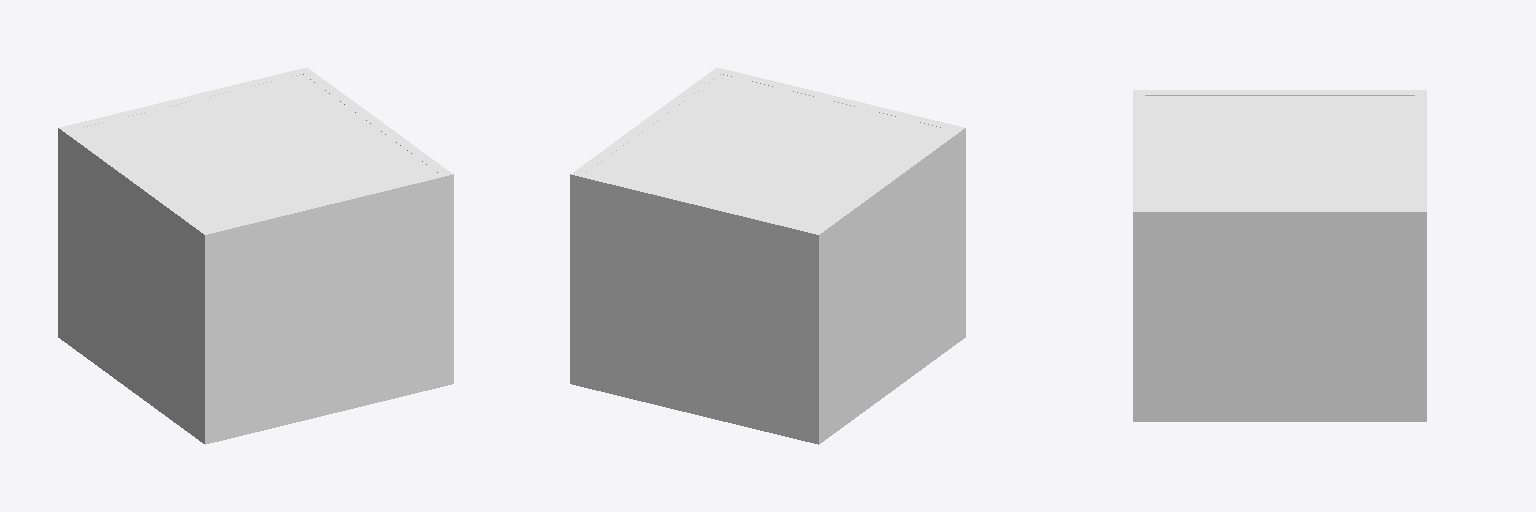
3 renders of one model, left to right at view 1: azimuth 30°, elevation 25°; view 2: azimuth 150°, elevation 25°; view 3: azimuth 270°, elevation 25°, orthographic.
Visible parts, largest first — view 1: wall_3_12, room_1_2, wall_2_6, wall_4_20, wall_2_8, wall_5_26, wall_3_14, wall_2_7, wall_4_19, wall_3_13, wall_5_23, wall_5_25 (+1 smaller); view 2: wall_5_24, room_1_2, wall_2_6, wall_4_20, wall_5_26, wall_3_14, wall_2_8, wall_2_7, wall_4_19, wall_5_25, wall_3_13, wall_5_23; view 3: wall_4_18, room_1_2, wall_4_20, wall_2_8, wall_5_26, wall_3_14, wall_5_25, wall_3_13, wall_4_19, wall_2_7.
Boxes of the visible parts, box(x1,y1,x2,y2) form: wall_3_12: box(205, 174, 453, 444); room_1_2: box(75, 74, 436, 227); wall_2_6: box(64, 132, 204, 443); wall_4_20: box(305, 68, 451, 173); wall_2_8: box(62, 129, 206, 234); wall_5_26: box(59, 67, 306, 129); wall_3_14: box(205, 174, 452, 234); wall_2_7: box(67, 128, 208, 230); wall_4_19: box(303, 71, 445, 173); wall_3_13: box(207, 173, 444, 231); wall_5_23: box(61, 74, 300, 340); wall_5_25: box(67, 71, 303, 129); wall_5_24: box(570, 174, 821, 444); room_1_2: box(587, 74, 948, 227); wall_2_6: box(825, 128, 965, 439); wall_4_20: box(572, 68, 718, 173); wall_5_26: box(571, 174, 820, 234); wall_3_14: box(717, 67, 963, 128); wall_2_8: box(819, 128, 964, 231); wall_2_7: box(813, 129, 956, 230); wall_4_19: box(578, 71, 720, 173); wall_5_25: box(579, 173, 822, 232); wall_3_13: box(720, 71, 956, 129); wall_5_23: box(822, 231, 824, 441); wall_4_18: box(1133, 212, 1426, 421); room_1_2: box(1145, 96, 1414, 206); wall_4_20: box(1134, 209, 1425, 211); wall_2_8: box(1133, 90, 1420, 92); wall_5_26: box(1421, 90, 1426, 211); wall_3_14: box(1133, 91, 1138, 211); wall_5_25: box(1415, 91, 1420, 208); wall_3_13: box(1139, 93, 1144, 208); wall_4_19: box(1141, 207, 1418, 208); wall_2_7: box(1141, 93, 1416, 94).
Bounding box in the file's own units: 189 × 152 × 193.